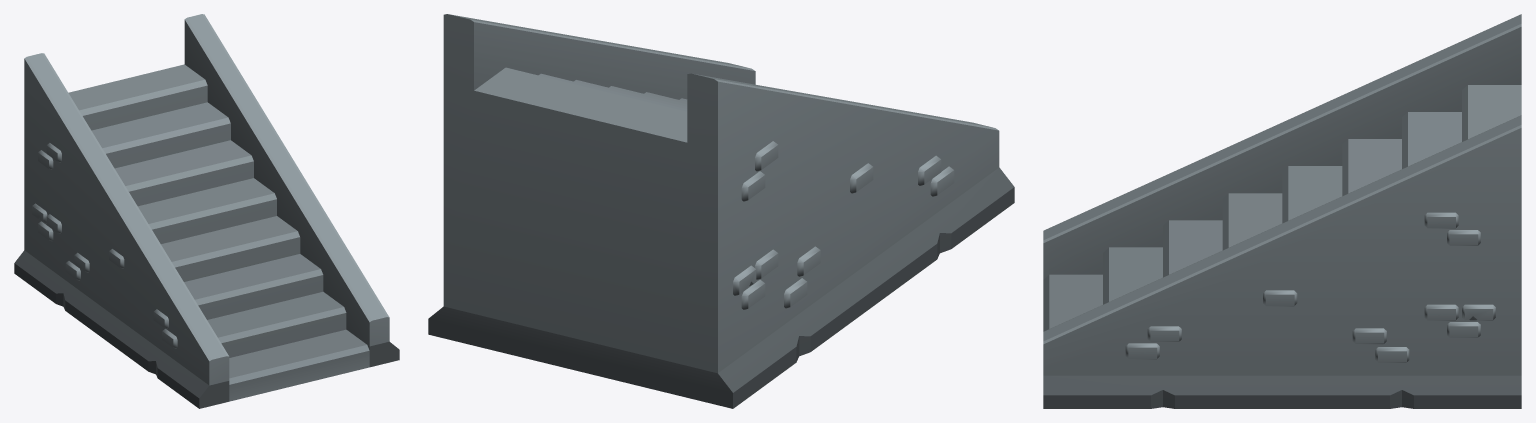
The model's file is stairs_long.gltf.
3 renders of one model, left to right at view 1: azimuth 30°, elevation 25°; view 2: azimuth 150°, elevation 25°; view 3: azimuth 270°, elevation 25°, orthographic. The views are drawn at different scales.
Visible parts, largest first — view 1: stairs_long; view 2: stairs_long; view 3: stairs_long.
Boxes of the visible parts, left/top/right/bottom form: stairs_long: left=14, top=14, right=399, bottom=408; stairs_long: left=428, top=14, right=1014, bottom=408; stairs_long: left=1043, top=14, right=1521, bottom=408.
Bounding box in the file's own units: 5 × 5.1 × 8.
Materials: 1 (1 with a texture image).
